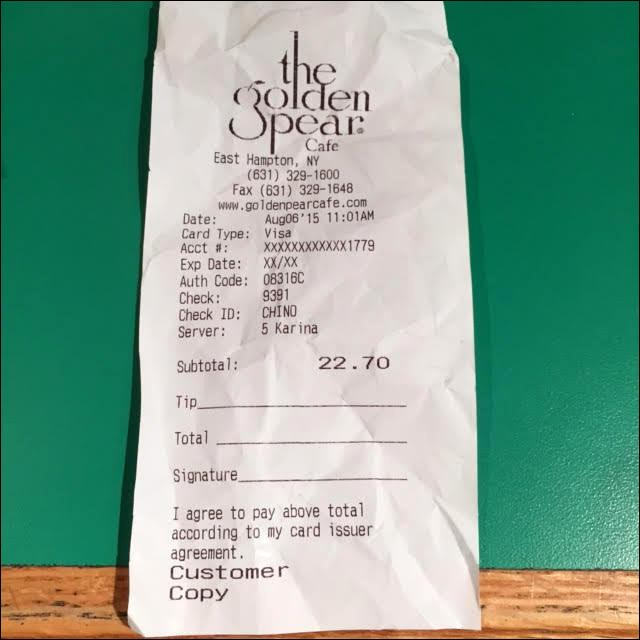TotalPrice: (166, 340, 418, 388)
